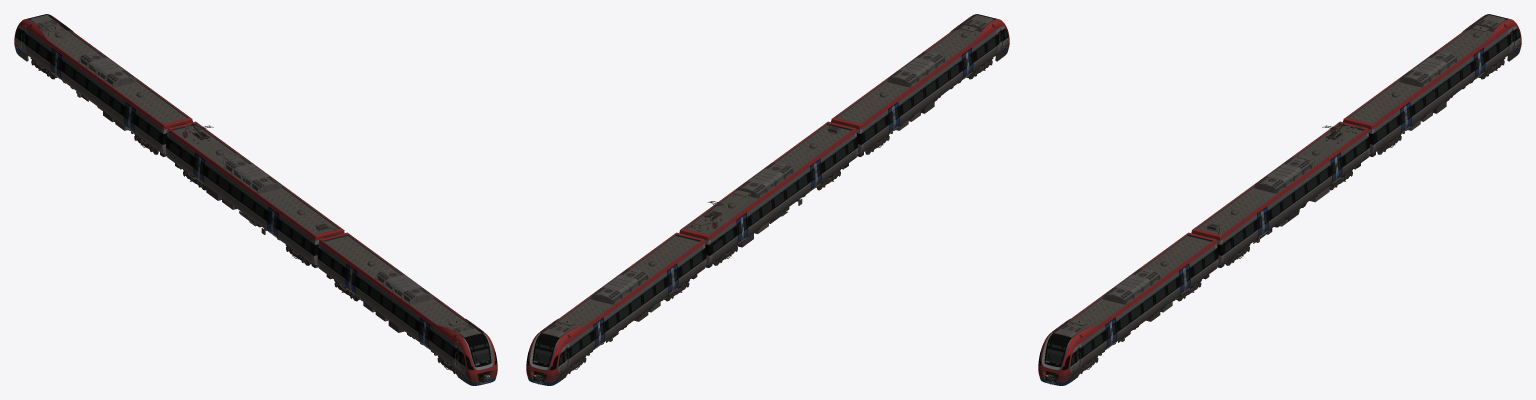
Rendered from 4000class.glb.
3 views of the same model, side by side, from view 1: azimuth 30°, elevation 25°; view 2: azimuth 150°, elevation 25°; view 3: azimuth 330°, elevation 25° (orthographic).
Parts seen in each view (by area): view 1: 4000 A.001, 4000 T.002, 4000 B.001; view 2: 4000 B.001, 4000 T.002, 4000 A.001; view 3: 4000 A.001, 4000 T.002, 4000 B.001.
Boxes of the visible parts, <box> form: 4000 A.001: <box>317,232,497,385</box>; 4000 T.002: <box>165,121,344,267</box>; 4000 B.001: <box>14,14,192,156</box>; 4000 B.001: <box>526,232,706,385</box>; 4000 T.002: <box>679,121,858,267</box>; 4000 A.001: <box>831,14,1009,156</box>; 4000 A.001: <box>1038,232,1218,385</box>; 4000 T.002: <box>1191,121,1370,267</box>; 4000 B.001: <box>1343,14,1521,156</box>.
Size of the model in its own units: 3.07 by 4.97 by 75.62.
Materials: 3 (3 with a texture image).
